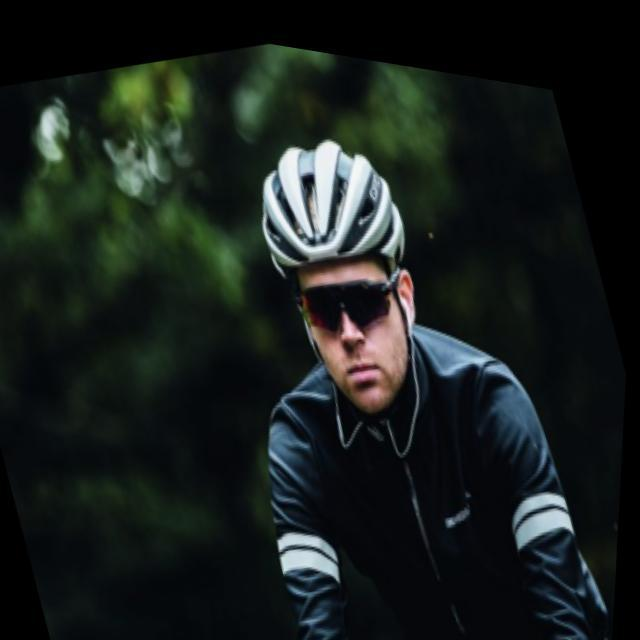Helmet: (257, 135, 423, 416)
